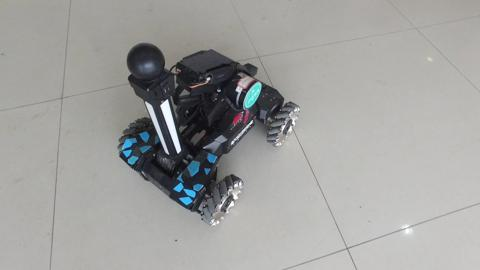chariot: (80, 29, 284, 222)
